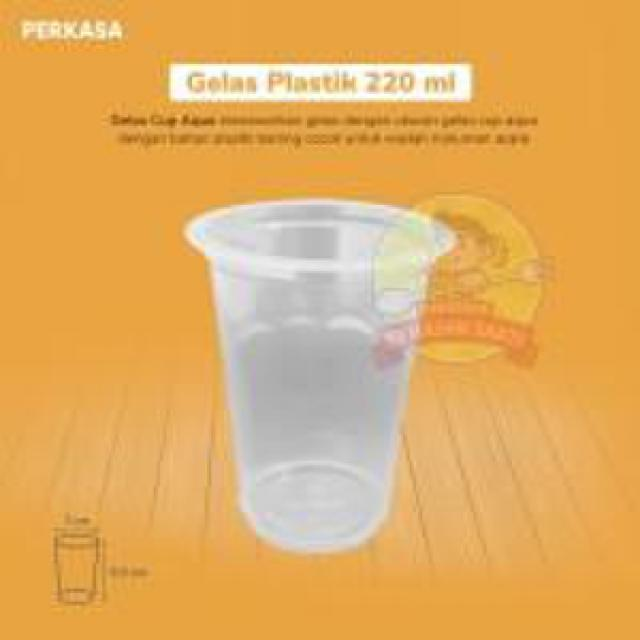plastic cup: (179, 192, 461, 557)
